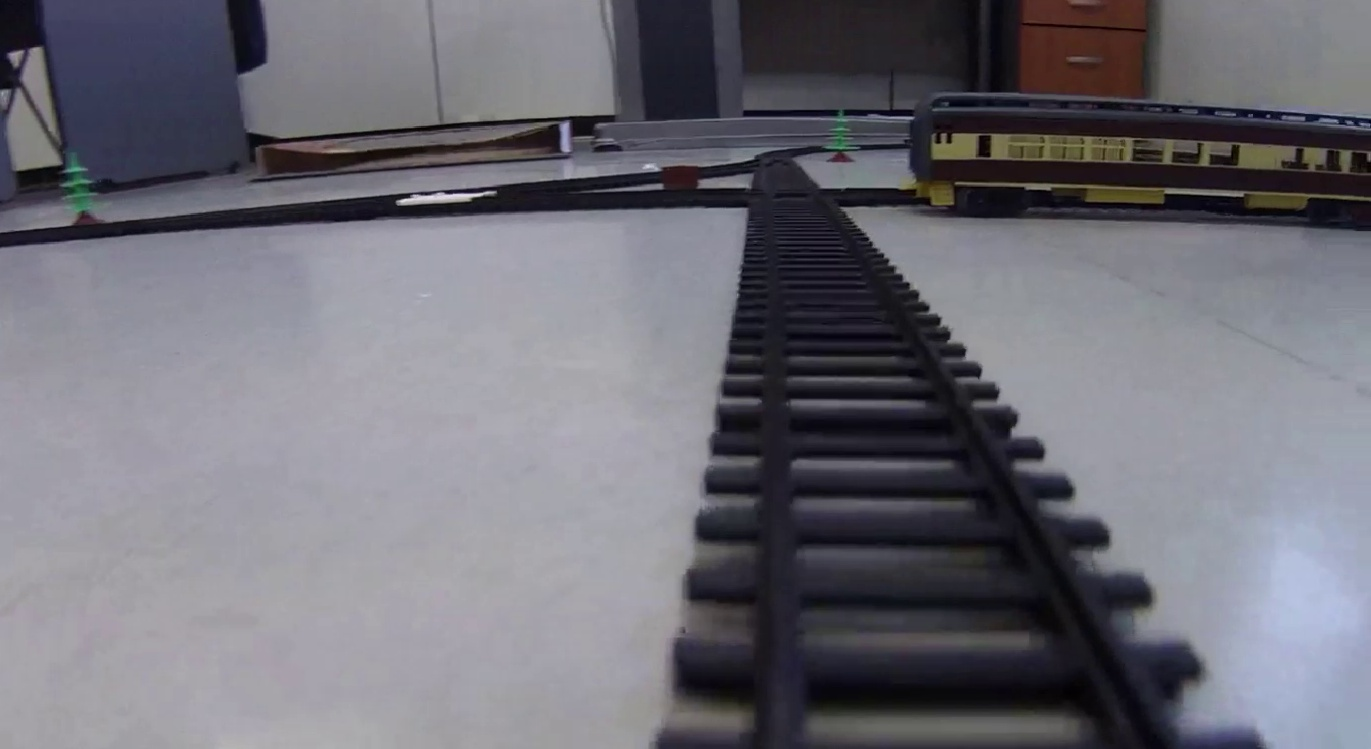box: (663, 167, 702, 189)
tree: (57, 148, 110, 227)
